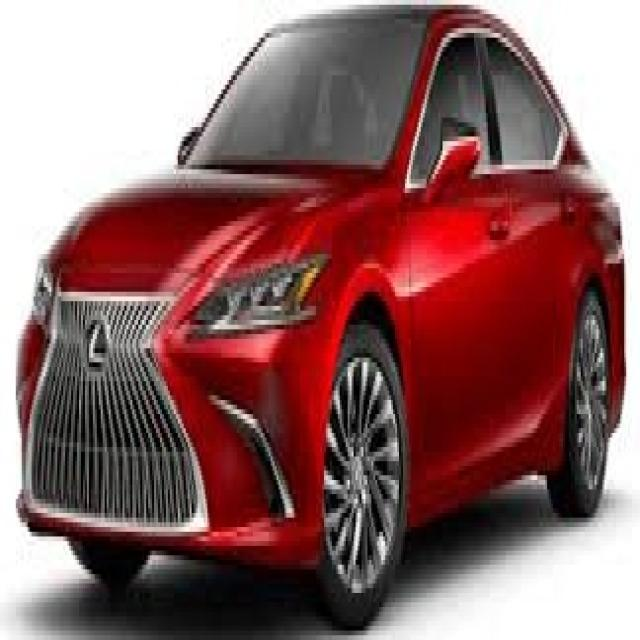red: (14, 0, 624, 531)
